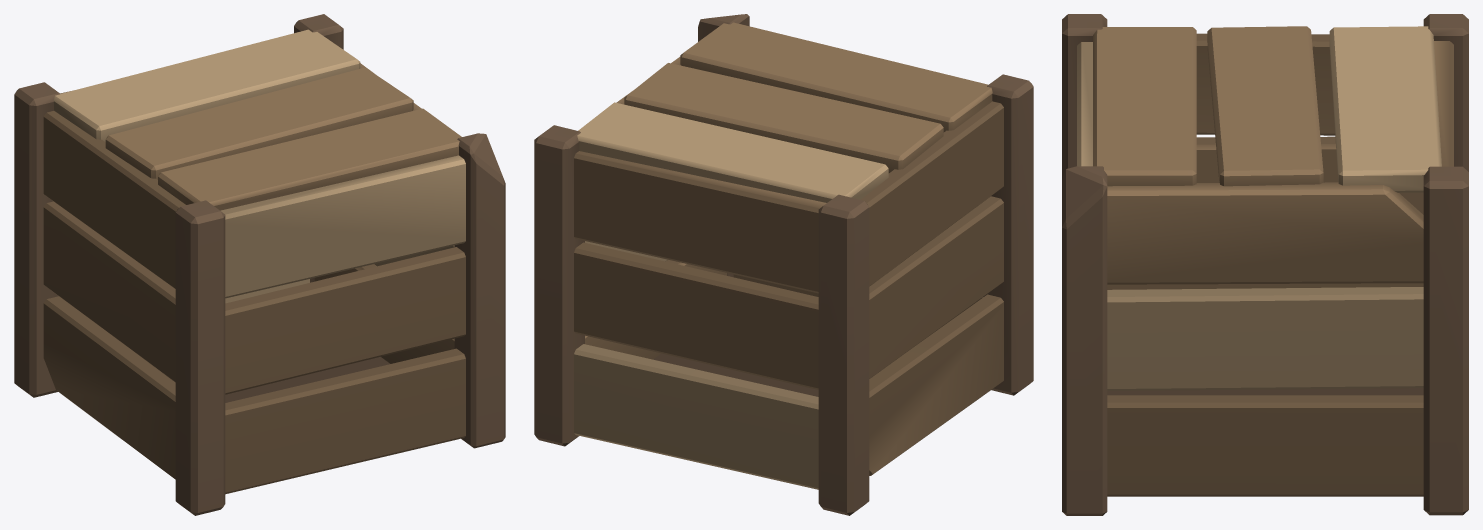
File: crate.8c1a3ad7.glb
The picture shows the model from 3 angles, left to right: view 1: azimuth 30°, elevation 25°; view 2: azimuth 150°, elevation 25°; view 3: azimuth 270°, elevation 25°; orthographic projection. The views are drawn at different scales.
Parts seen in each view (by area): view 1: crate; view 2: crate; view 3: crate.
Part boxes in pixels (bbox=[...]): crate: bbox=[14, 14, 505, 515]; crate: bbox=[534, 14, 1033, 515]; crate: bbox=[1062, 14, 1468, 515].
Bounding box in the file's own units: 0.81 × 0.735 × 0.81.
